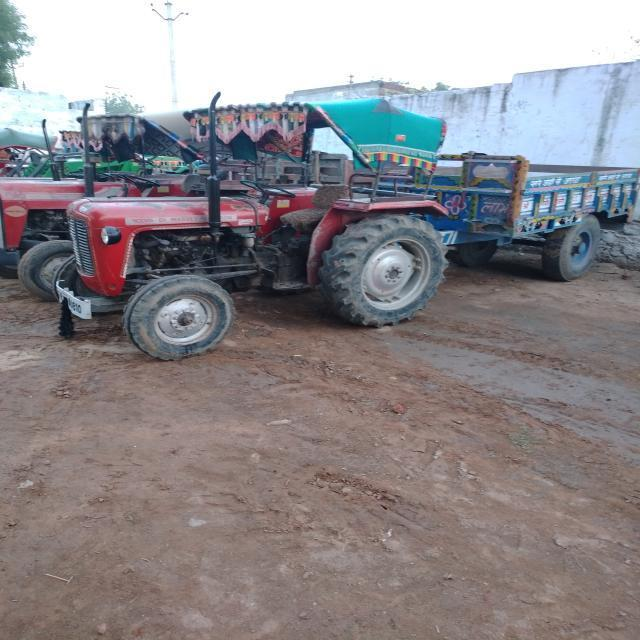tractor_front: (45, 89, 640, 368), (0, 103, 236, 311)
